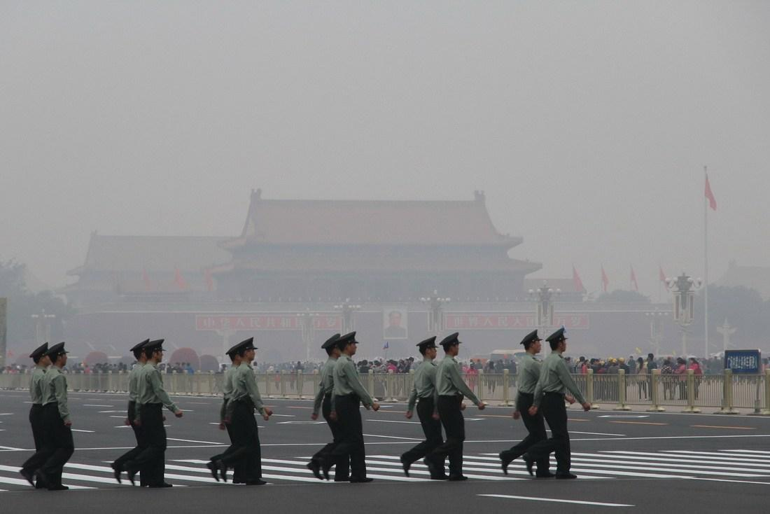person: (498, 329, 576, 478), (521, 327, 593, 480), (423, 332, 487, 482), (320, 330, 382, 483), (122, 339, 184, 489), (215, 336, 271, 485), (306, 332, 359, 483), (400, 336, 453, 481), (109, 338, 160, 488), (205, 341, 253, 485), (33, 341, 75, 491), (18, 341, 60, 491), (686, 357, 703, 401), (673, 359, 690, 401), (644, 353, 658, 401), (635, 357, 650, 401), (616, 358, 631, 402), (580, 359, 595, 401), (561, 355, 576, 397), (608, 358, 622, 402), (360, 359, 376, 396), (575, 356, 588, 398), (662, 360, 675, 401), (386, 360, 400, 396), (466, 363, 480, 398), (606, 357, 617, 401), (597, 361, 609, 401), (589, 358, 600, 401), (407, 356, 418, 397), (183, 362, 196, 396), (486, 361, 499, 394), (401, 358, 412, 397), (250, 361, 263, 394), (294, 360, 305, 396), (396, 359, 406, 396), (627, 355, 637, 387), (508, 360, 518, 389), (165, 362, 174, 394), (468, 358, 477, 389), (495, 360, 505, 387), (475, 358, 484, 388), (274, 370, 281, 391)
